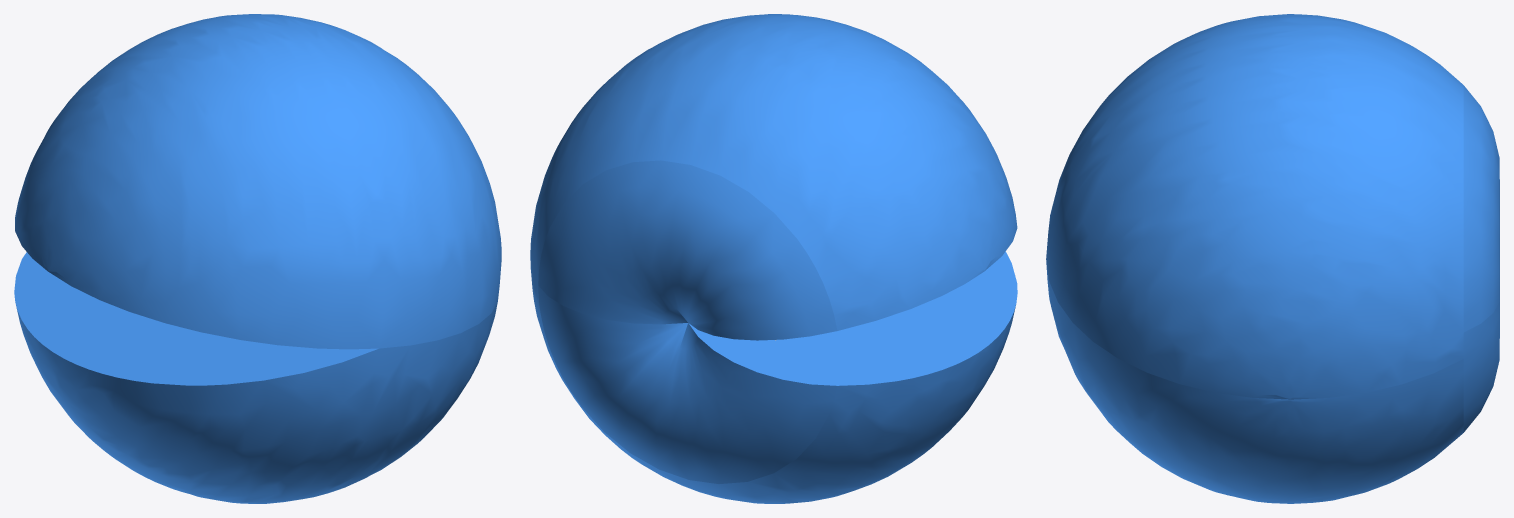
The picture shows the model from 3 angles, left to right: view 1: azimuth 30°, elevation 25°; view 2: azimuth 150°, elevation 25°; view 3: azimuth 270°, elevation 25°; orthographic projection.
Parts seen in each view (by area): view 1: WorkspaceEnvelope; view 2: WorkspaceEnvelope; view 3: WorkspaceEnvelope.
Part boxes in pixels (box(x1,y1,x2,y2)): WorkspaceEnvelope: box(14, 14, 501, 503); WorkspaceEnvelope: box(530, 14, 1017, 503); WorkspaceEnvelope: box(1046, 14, 1499, 503).
Size of the model in its own units: 1.18 by 1.18 by 1.1.
